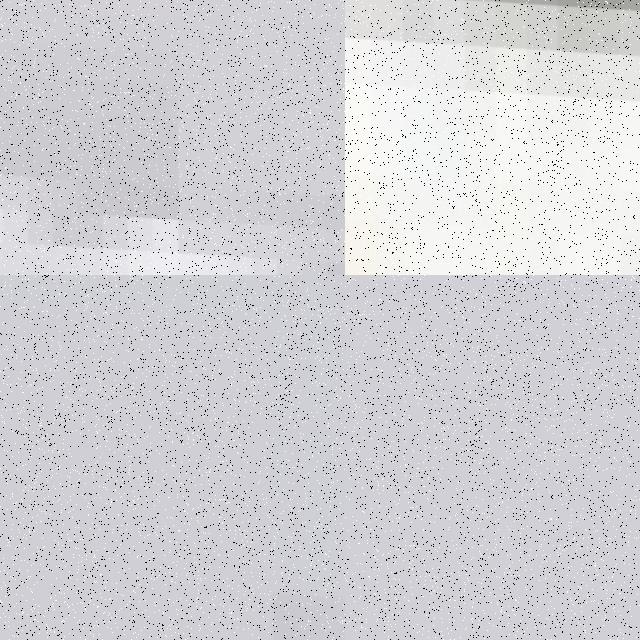drone: (0, 275, 345, 640), (0, 0, 345, 275), (345, 0, 640, 275)
